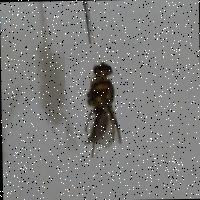Oriental-fruit-fly: (62, 43, 140, 158)
